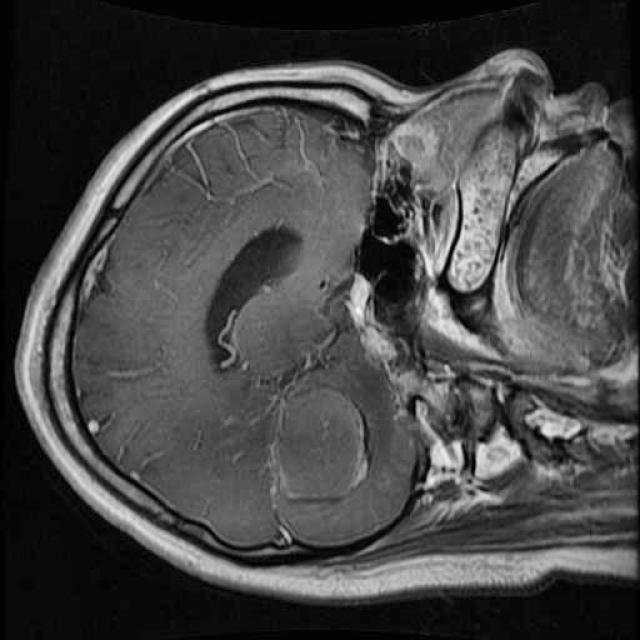Non-Tumor: (246, 348, 385, 519)
